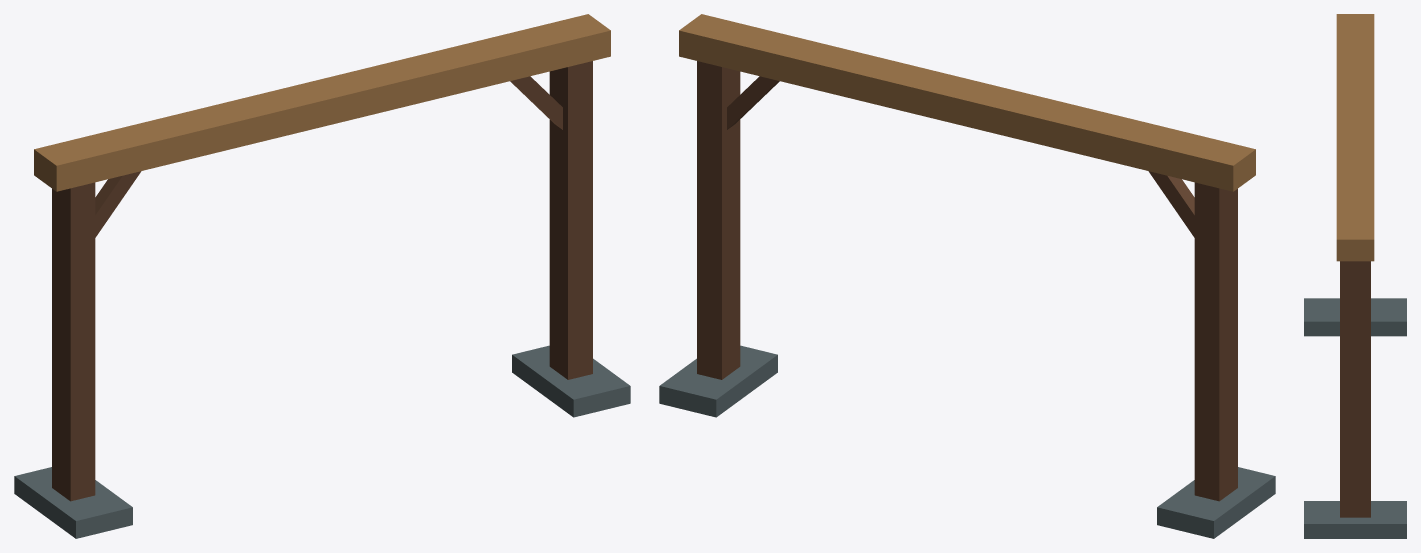
Rendered from PirateCove_CargoSwingFrame_Simple.glb.
3 views of the same model, side by side, from view 1: azimuth 30°, elevation 25°; view 2: azimuth 150°, elevation 25°; view 3: azimuth 270°, elevation 25° (orthographic). The views are drawn at different scales.
Visible parts, largest first — view 1: PirateCove_CargoSwingFrame_Simple; view 2: PirateCove_CargoSwingFrame_Simple; view 3: PirateCove_CargoSwingFrame_Simple.
Boxes of the visible parts, x1,y1,x2,y2 form: PirateCove_CargoSwingFrame_Simple: (14,14,630,538); PirateCove_CargoSwingFrame_Simple: (659,14,1275,538); PirateCove_CargoSwingFrame_Simple: (1304,14,1406,538).
Size of the model in its own units: 7.8 by 4.83 by 1.5.
